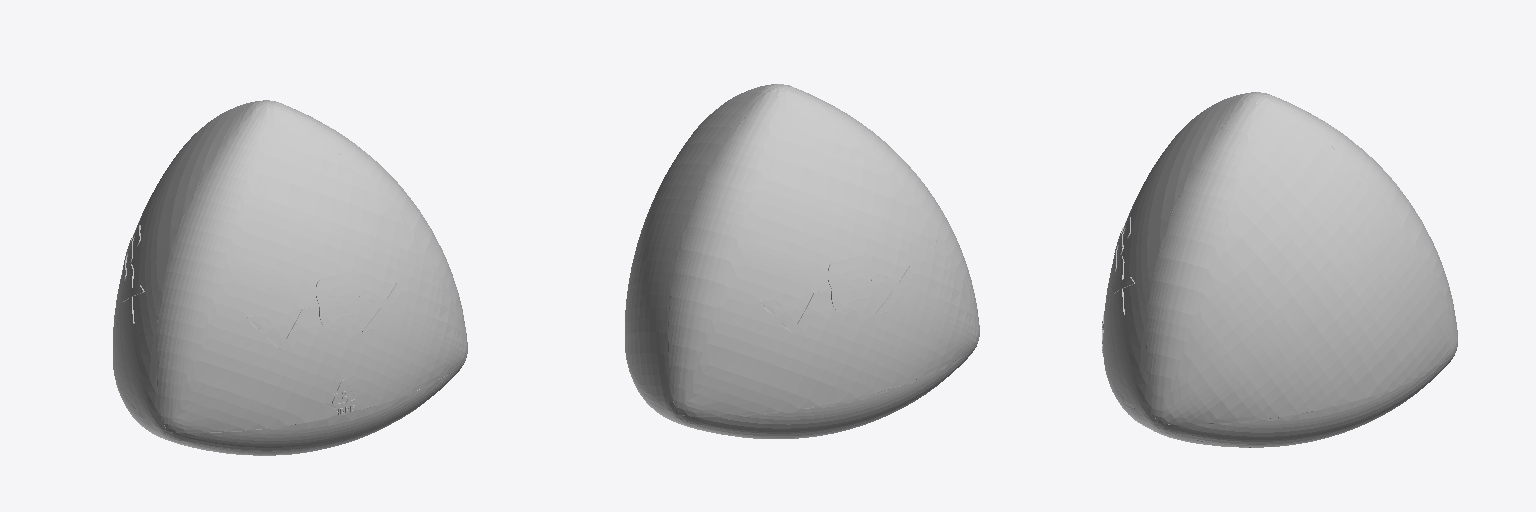
The model's file is 276-8354-001 Rev5_12-8 Update.obj.
The picture shows the model from 3 angles: view 1: azimuth 30°, elevation 25°; view 2: azimuth 150°, elevation 25°; view 3: azimuth 270°, elevation 25°; orthographic projection.
Parts seen in each view (by area): view 1: Solid1; view 2: Solid1; view 3: Solid1.
Boxes of the visible parts, box(x1,y1,x2,y2) form: Solid1: box(113, 100, 467, 455); Solid1: box(625, 84, 979, 438); Solid1: box(1102, 92, 1457, 447).
Bounding box in the file's own units: 158 × 157 × 158.